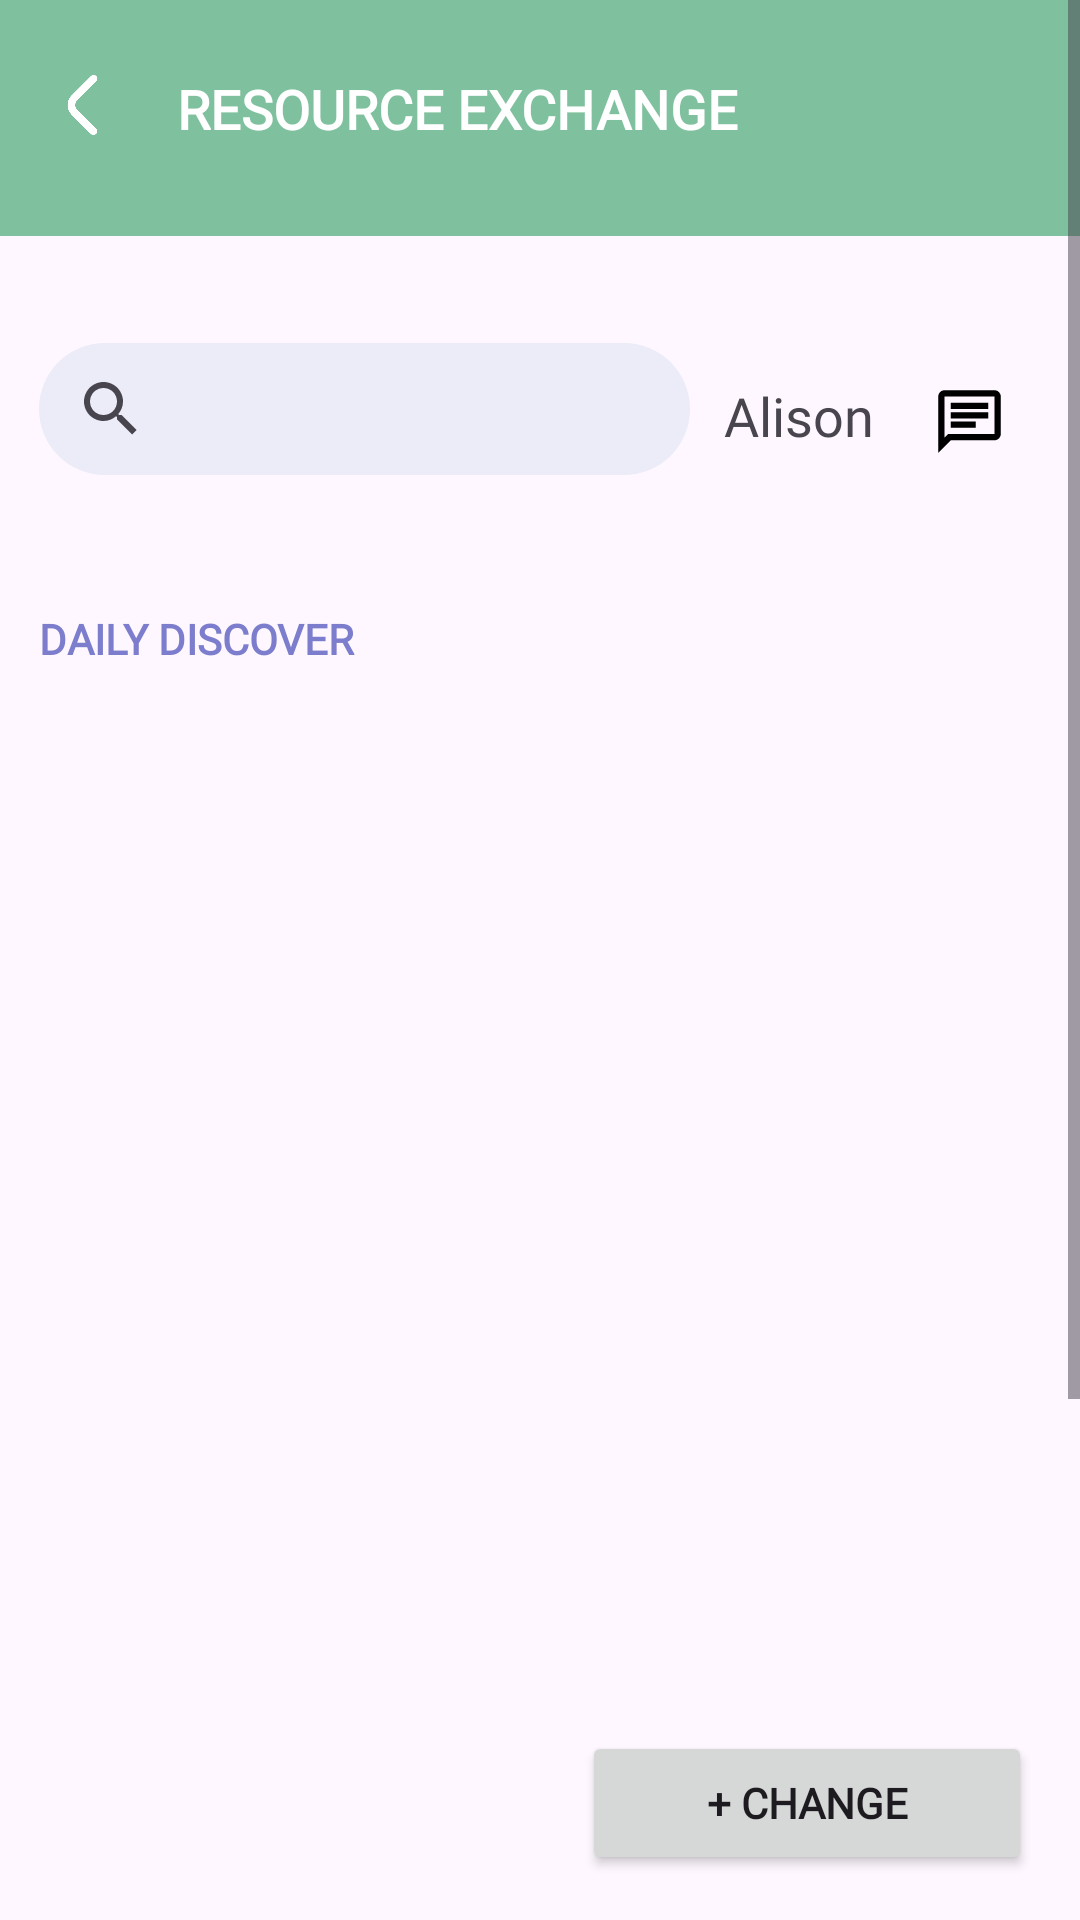

Named icons in this screenshot (1080x1920) and their bounding boxes, [x1=x1, y1=y1, x2=x2, y2=y2]:
chat: [x1=938, y1=390, x2=1001, y2=453]
